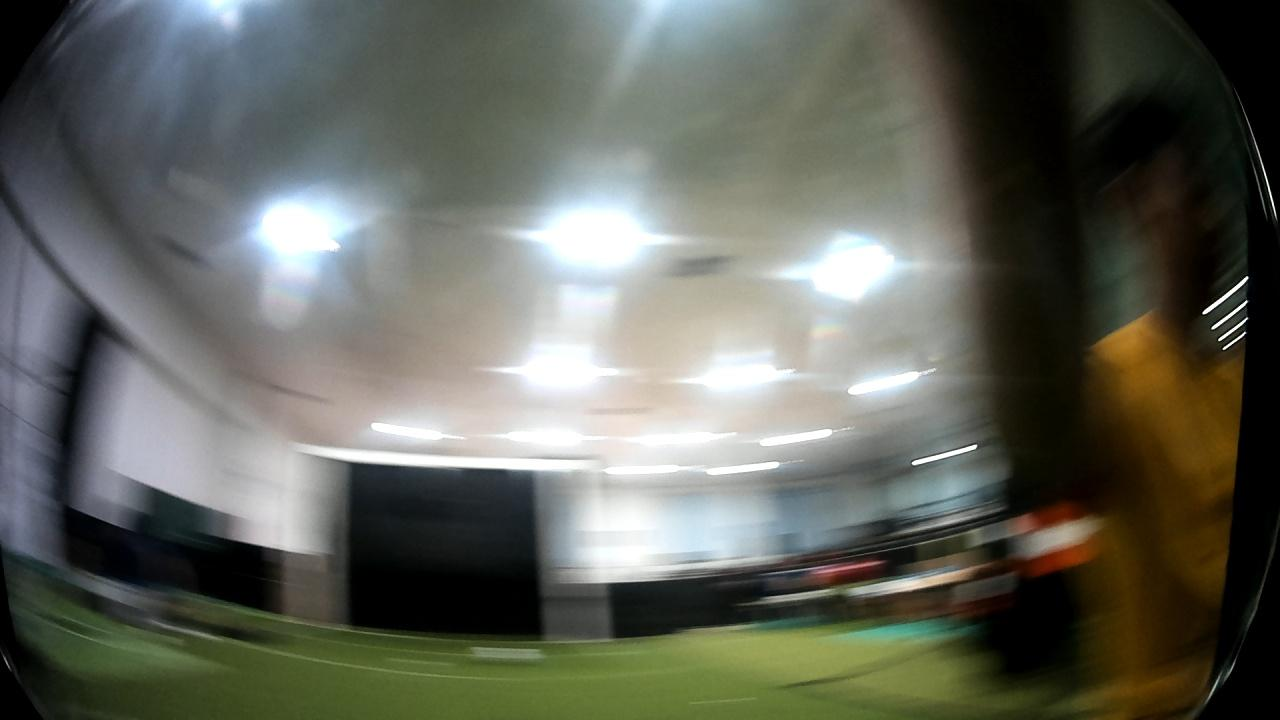ball: (467, 641, 549, 668)
